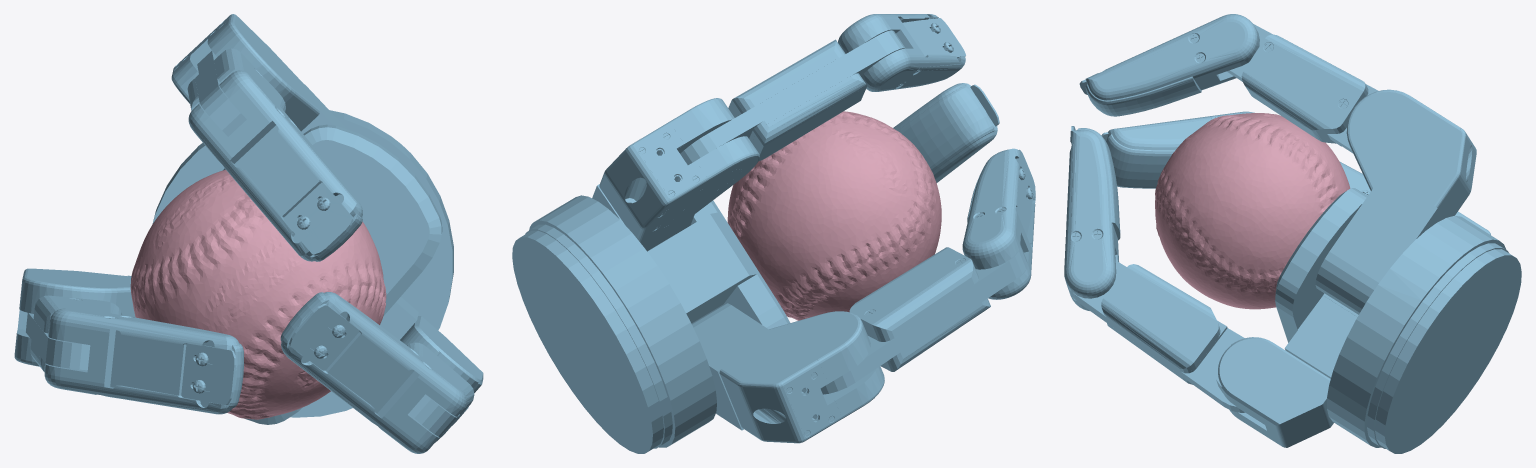
The picture shows the model from 3 angles, left to right: view 1: azimuth 30°, elevation 25°; view 2: azimuth 150°, elevation 25°; view 3: azimuth 270°, elevation 25°; orthographic projection. The views are drawn at different scales.
Visible parts, largest first — view 1: world, baseball.stl; view 2: world, baseball.stl; view 3: world, baseball.stl.
Part boxes in pixels (x1,y1,x2,y2): world: [14, 14, 483, 453]; baseball.stl: [130, 169, 386, 419]; world: [512, 14, 1035, 453]; baseball.stl: [727, 111, 941, 320]; world: [1064, 14, 1521, 453]; baseball.stl: [1155, 113, 1350, 309].
Size of the model in its own units: 0.1667 by 0.1465 by 0.168.
